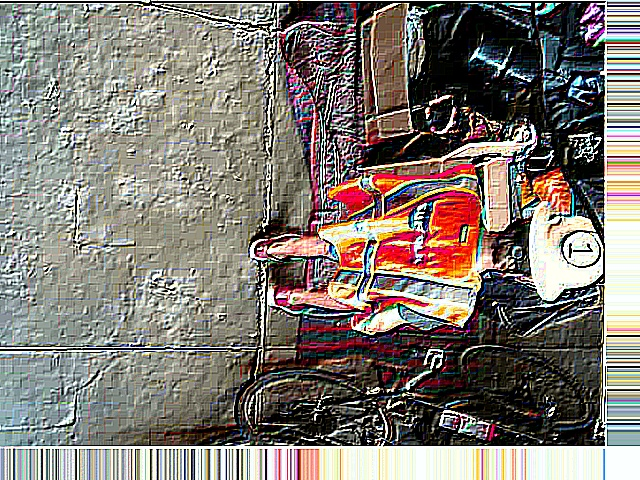one: (563, 232, 602, 268)
